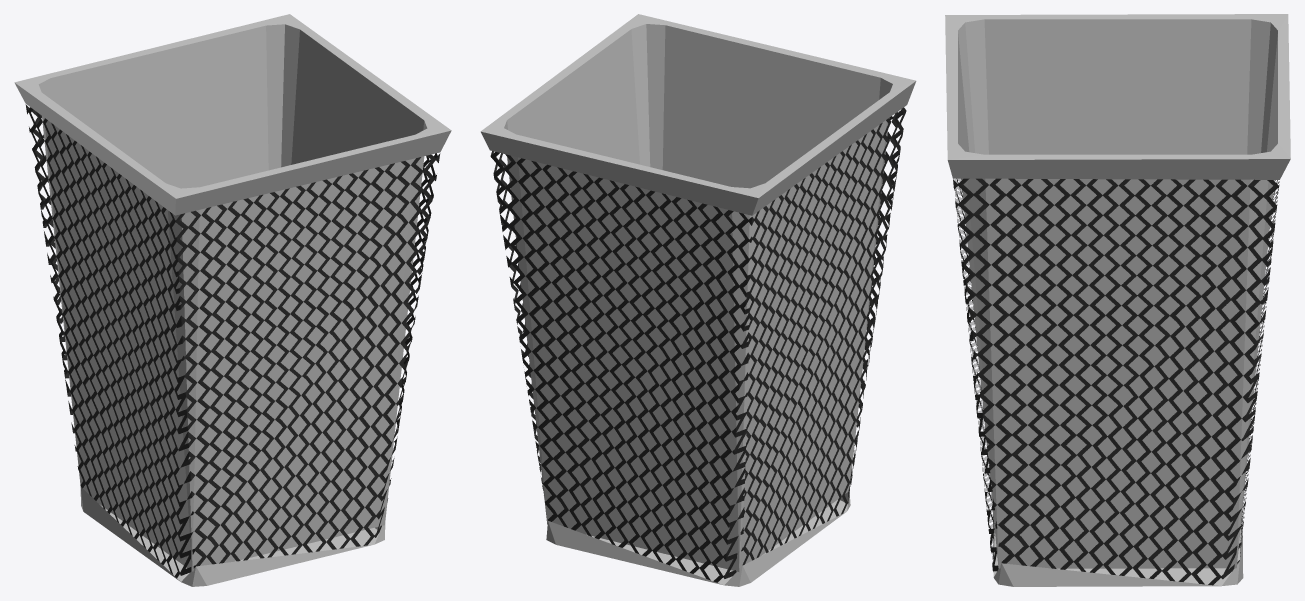
File: SquareTrashCan_LOD2.fbx
3 views of the same model, side by side, from view 1: azimuth 30°, elevation 25°; view 2: azimuth 150°, elevation 25°; view 3: azimuth 270°, elevation 25° (orthographic). The views are drawn at different scales.
Parts seen in each view (by area): view 1: Cube; view 2: Cube; view 3: Cube.
Boxes of the visible parts, box(x1,y1,x2,y2) form: Cube: box(14, 14, 451, 586); Cube: box(480, 14, 916, 586); Cube: box(945, 14, 1290, 586).
Bounding box in the file's own units: 69.95 × 99.8 × 69.95.
